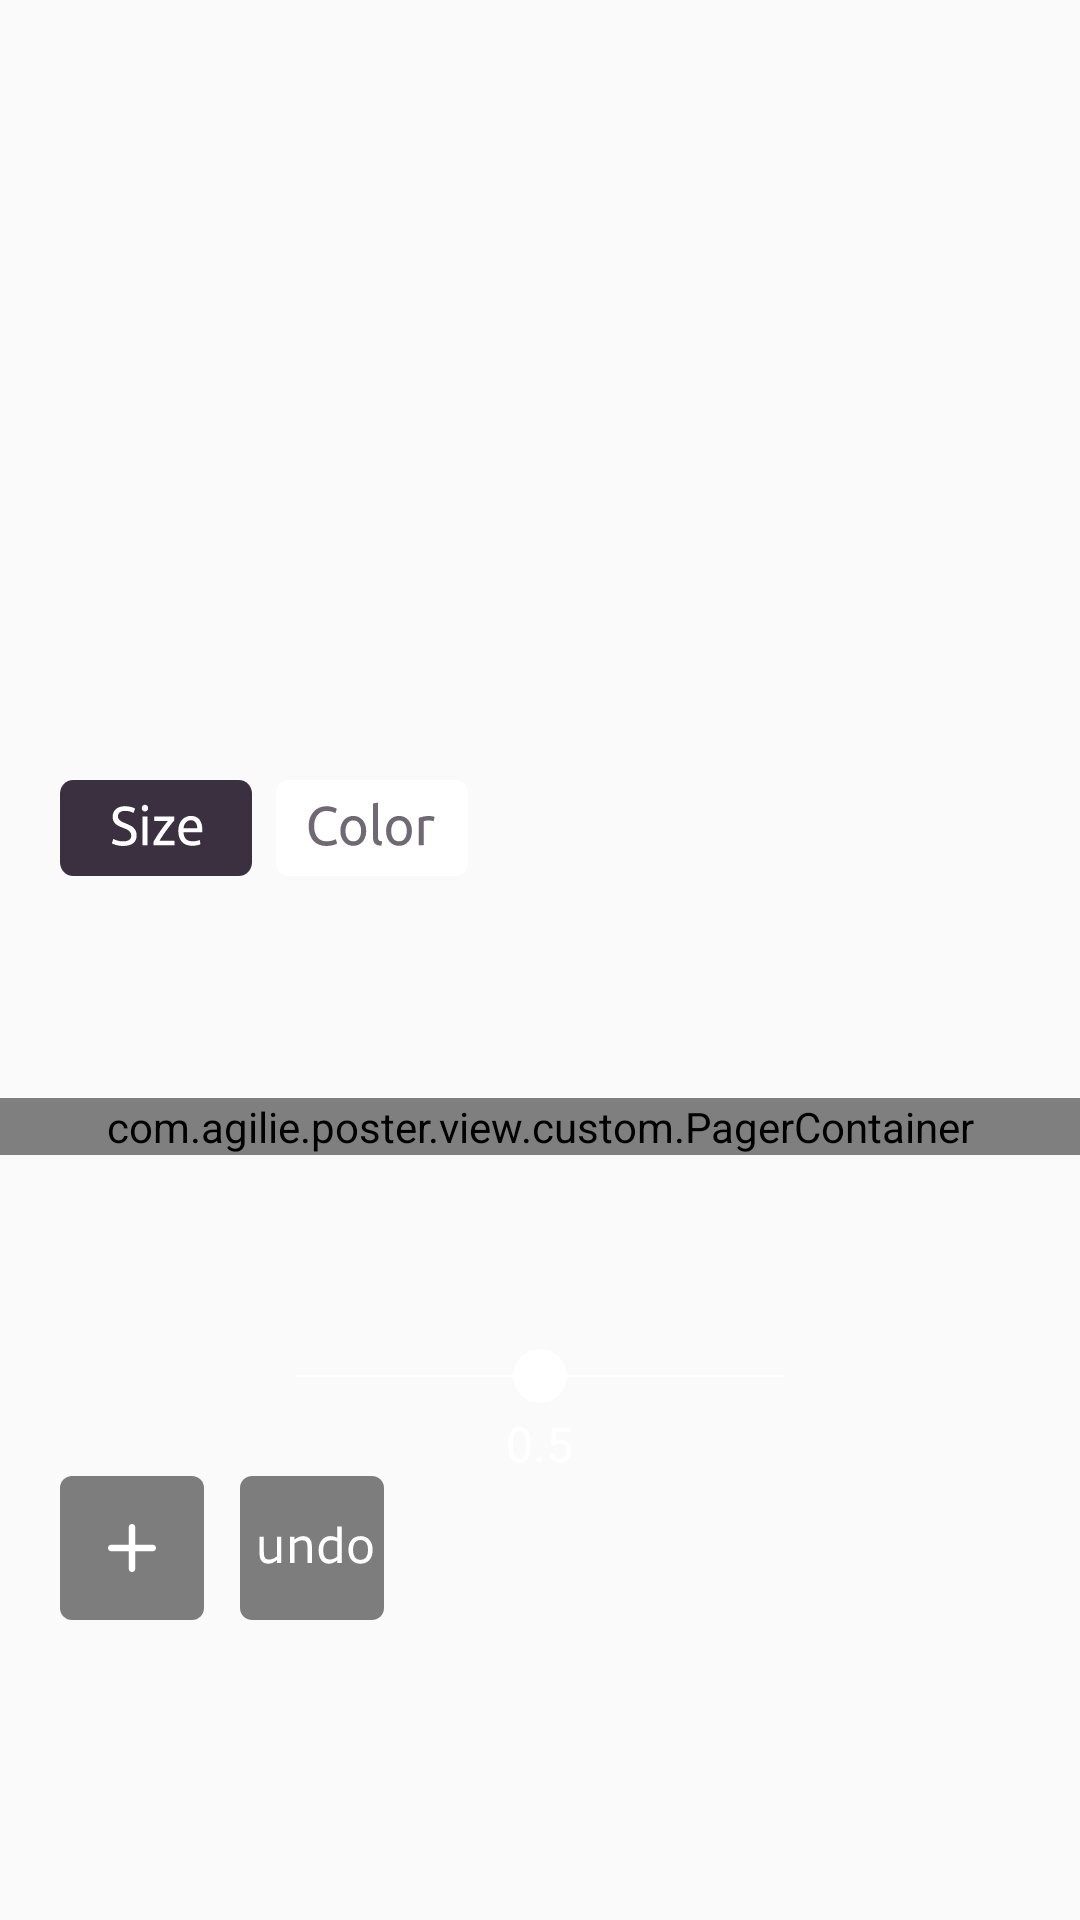

Icon click points for this 1080w x 1920h phone screenshot, format (x=x, y=y):
add: (x=132, y=1548)
